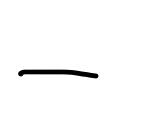minus: (19, 68, 99, 82)
